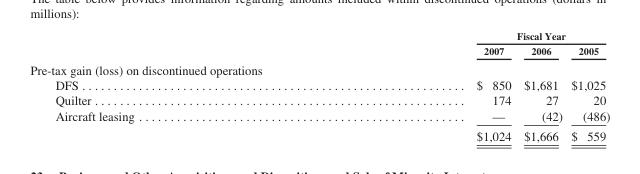table: (29, 29, 609, 142)
table column: (29, 29, 304, 142), (304, 29, 516, 142), (516, 29, 566, 142), (566, 29, 609, 142)
table column header: (29, 29, 609, 59)
table projected row header: (29, 59, 609, 77)
table row: (29, 59, 609, 77), (29, 107, 609, 125), (29, 42, 609, 59), (29, 125, 609, 142), (29, 77, 609, 92), (29, 92, 609, 107), (29, 29, 609, 42)
table spanning cell: (304, 29, 609, 42)
